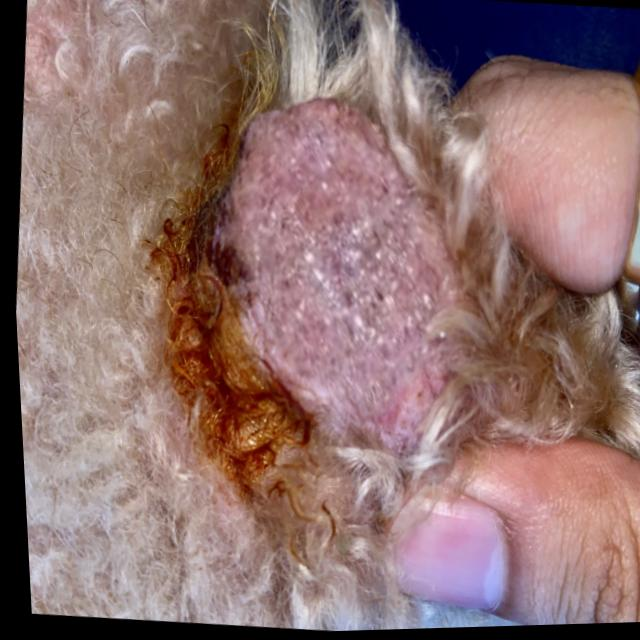ringworm: (207, 65, 481, 492)
